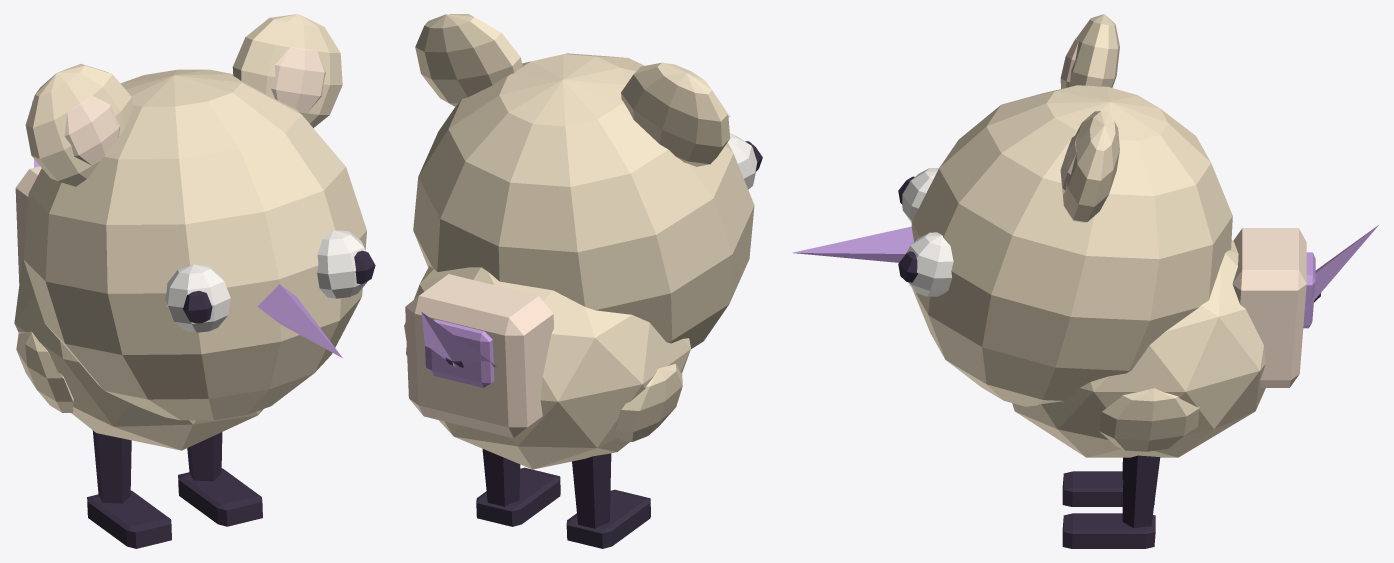
File: bird-factory-1.glb
3 renders of one model, left to right at view 1: azimuth 30°, elevation 25°; view 2: azimuth 150°, elevation 25°; view 3: azimuth 270°, elevation 25°, orthographic. The views are drawn at different scales.
Parts seen in each view (by area): view 1: bird-factory-1; view 2: bird-factory-1; view 3: bird-factory-1.
Part boxes in pixels (<box>): bird-factory-1: <box>14,14,375,548</box>; bird-factory-1: <box>404,14,762,548</box>; bird-factory-1: <box>792,14,1378,548</box>.
Bounding box in the file's own units: 0.5848 × 0.8683 × 1.02.
